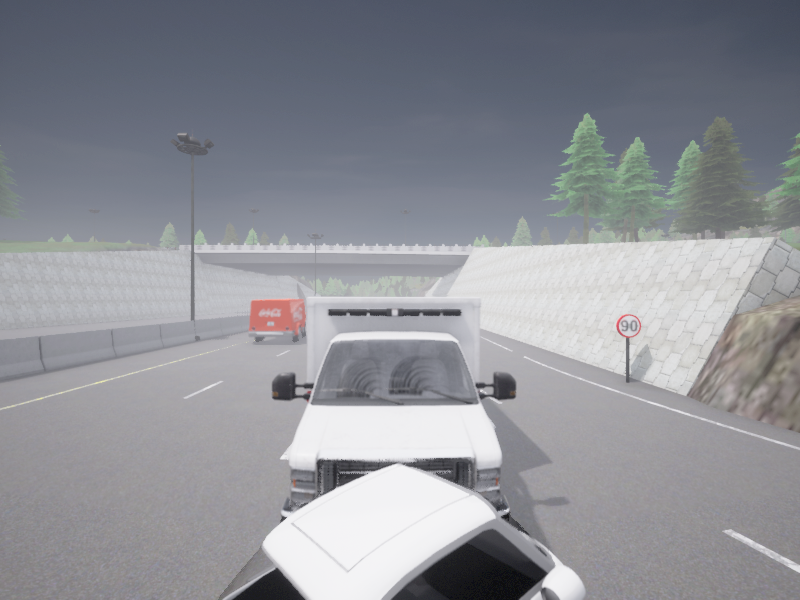vehicle: (272, 297, 516, 523), (217, 464, 585, 599), (248, 299, 306, 341)
